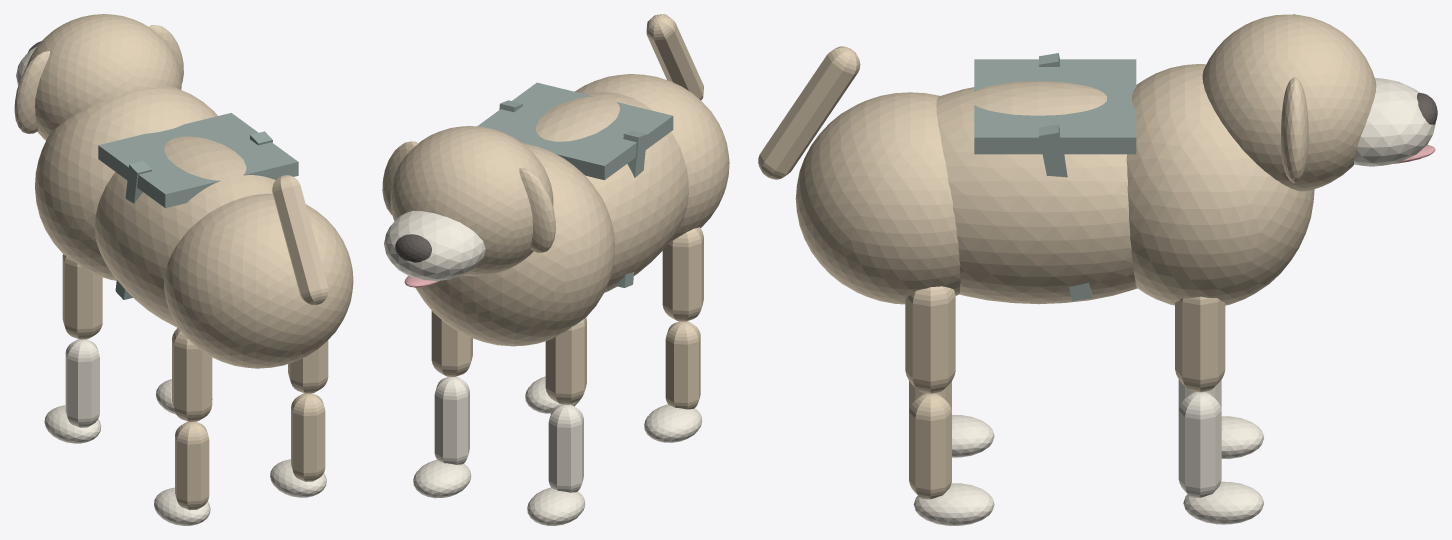
The model's file is gunner.glb.
The picture shows the model from 3 angles, left to right: view 1: azimuth 30°, elevation 25°; view 2: azimuth 150°, elevation 25°; view 3: azimuth 270°, elevation 25°; orthographic projection. The views are drawn at different scales.
Visible parts, largest first — view 1: haunch, chest, bodyMesh, headMesh, harnessBack, tailMesh, rearLeftUpper, frontLeftLower, rearRightLower, rearLeftLower, frontLeftUpper, leftEarMesh (+7 smaller); view 2: chest, headMesh, bodyMesh, haunch, harnessBack, muzzle, rearLeftUpper, rearLeftLower, frontLeftLower, frontRightLower, frontLeftUpper, tailMesh (+9 smaller); view 3: bodyMesh, chest, haunch, headMesh, harnessBack, tailMesh, rearRightUpper, muzzle, frontRightUpper, frontRightLower, rearRightLower, frontRightPawMesh (+5 smaller).
Part boxes in pixels (x1=…): haunch: x1=164, y1=193, x2=353, y2=368; chest: x1=35, y1=86, x2=217, y2=280; bodyMesh: x1=95, y1=136, x2=275, y2=327; headMesh: x1=26, y1=14, x2=181, y2=140; harnessBack: x1=98, y1=113, x2=298, y2=208; tailMesh: x1=272, y1=175, x2=328, y2=305; rearLeftUpper: x1=172, y1=327, x2=212, y2=421; frontLeftLower: x1=65, y1=339, x2=99, y2=427; rearRightLower: x1=291, y1=393, x2=325, y2=481; rearLeftLower: x1=175, y1=421, x2=209, y2=510; frontLeftUpper: x1=62, y1=254, x2=102, y2=339; leftEarMesh: x1=14, y1=51, x2=49, y2=133; chest: x1=415, y1=143, x2=614, y2=346; headMesh: x1=390, y1=126, x2=553, y2=276; bodyMesh: x1=536, y1=92, x2=688, y2=292; haunch: x1=575, y1=74, x2=729, y2=244; harnessBack: x1=477, y1=82, x2=673, y2=180; muzzle: x1=384, y1=210, x2=485, y2=281; rearLeftUpper: x1=662, y1=227, x2=703, y2=321; rearLeftLower: x1=665, y1=321, x2=700, y2=409; frontLeftLower: x1=548, y1=404, x2=583, y2=492; frontRightLower: x1=434, y1=376, x2=469, y2=464; frontLeftUpper: x1=545, y1=317, x2=586, y2=404; tailMesh: x1=646, y1=14, x2=703, y2=100; bodyMesh: x1=936, y1=81, x2=1137, y2=304; chest: x1=1126, y1=64, x2=1314, y2=305; haunch: x1=795, y1=92, x2=960, y2=304; headMesh: x1=1202, y1=14, x2=1376, y2=191; harnessBack: x1=974, y1=59, x2=1136, y2=154; tailMesh: x1=758, y1=46, x2=860, y2=179; rearRightUpper: x1=905, y1=286, x2=955, y2=393; muzzle: x1=1354, y1=78, x2=1435, y2=166; frontRightUpper: x1=1175, y1=296, x2=1225, y2=392; frontRightLower: x1=1178, y1=392, x2=1221, y2=497; rearRightLower: x1=909, y1=393, x2=951, y2=499; frontRightPawMesh: x1=1183, y1=481, x2=1263, y2=524.
Size of what is drawn, in the model's own units: 0.76 by 1.51 by 2.02.
